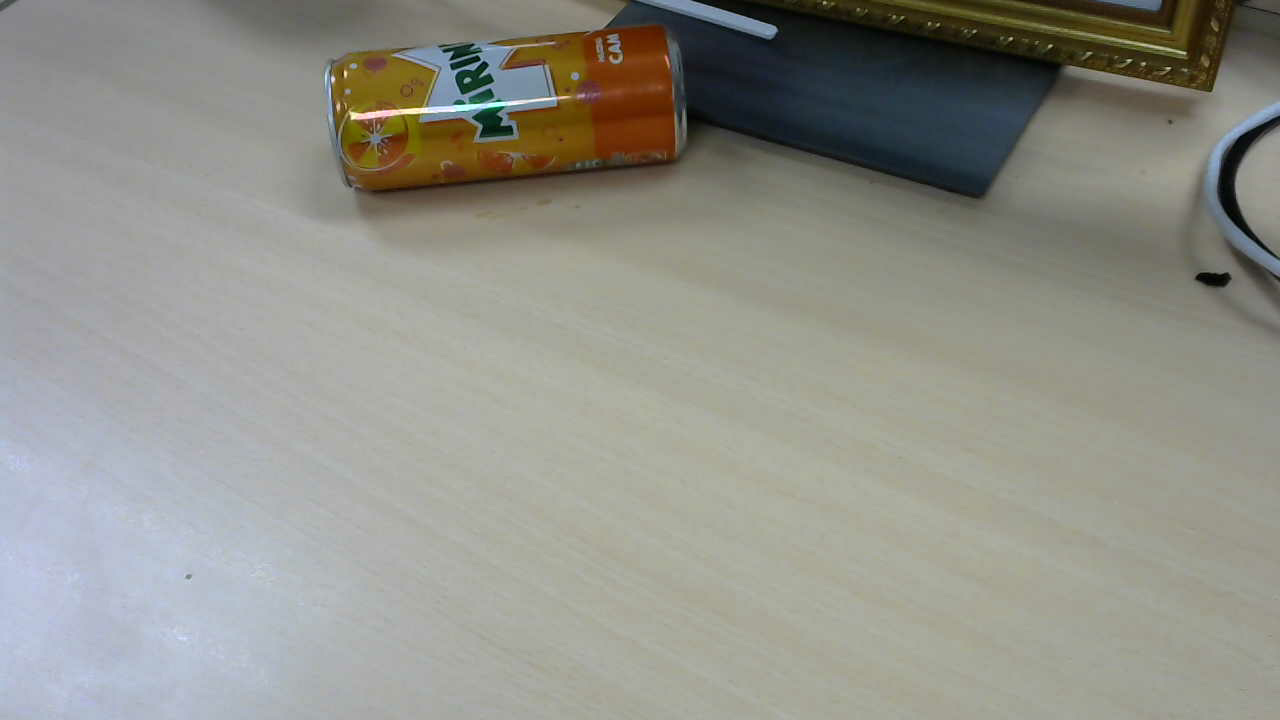Mirinda: (335, 32, 693, 197)
